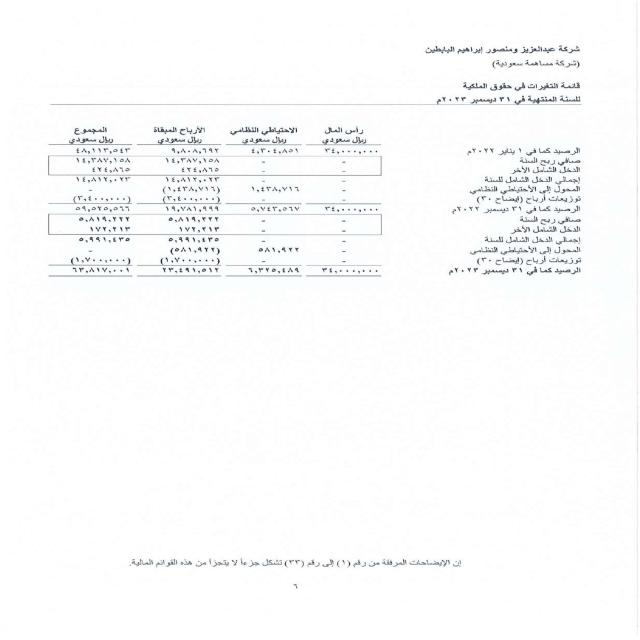financial_sheets: (431, 78, 583, 93)
table: (33, 115, 401, 304)
